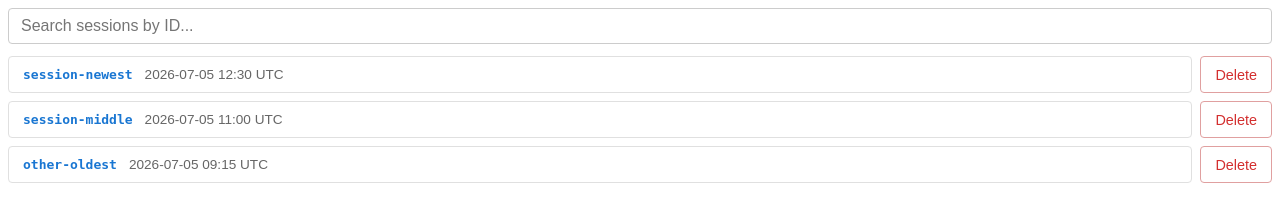
SessionList › search and filter (SL-AC3) › filters to sessions whose id contains the query (case-insensitive)
Step 1. Type "SESSION" into the field with test id "session-search-input" → (640, 26), box [8,8,1272,44]
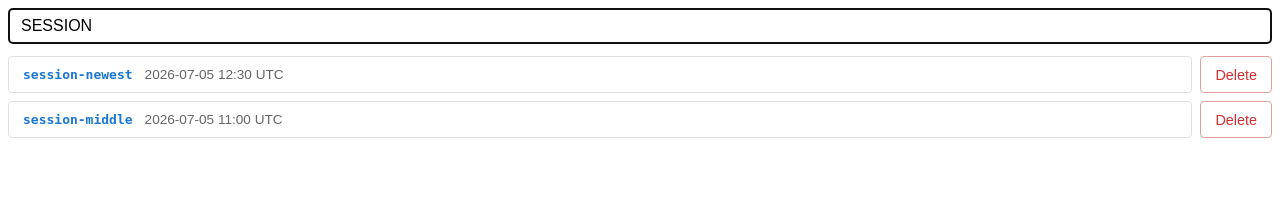
Expected: the text "session-newest" is shown, [23,67,133,82]
Now the number of list items with test id "session-list-item" is 2, box [8,56,1272,93]; [8,101,1272,138]
Now the button "other-oldest" is gone
